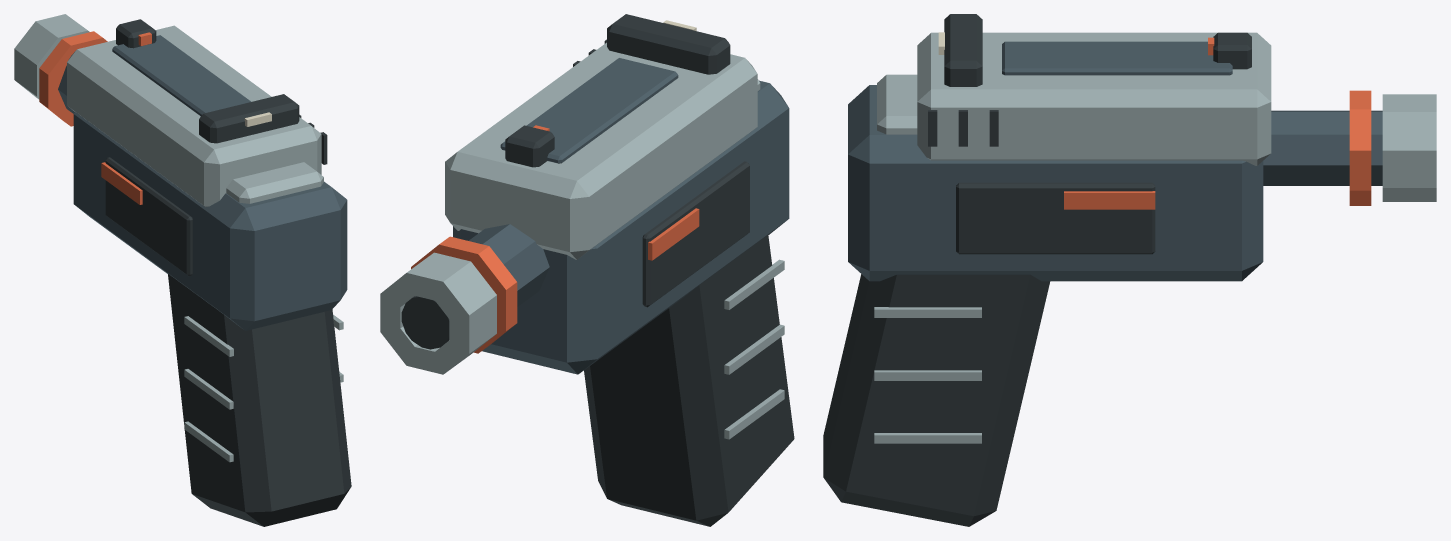
Rendered from pistol.glb.
3 views of the same model, side by side, from view 1: azimuth 30°, elevation 25°; view 2: azimuth 150°, elevation 25°; view 3: azimuth 270°, elevation 25° (orthographic). The views are drawn at different scales.
Visible parts, largest first — view 1: pistol_grip, pistol_receiver, pistol_slide, pistol_side_panel, pistol_slide_insert, pistol_rear_sight, pistol_muzzle, pistol_upper_spine, pistol_muzzle_collar, pistol_front_sight, pistol_stripe, pistol_grip_inlay_L.002 (+2 smaller); view 2: pistol_grip, pistol_slide, pistol_receiver, pistol_muzzle, pistol_side_panel, pistol_slide_insert, pistol_rear_sight, pistol_muzzle_collar, pistol_barrel, pistol_muzzle_bore, pistol_front_sight, pistol_stripe (+3 smaller); view 3: pistol_grip, pistol_receiver, pistol_slide, pistol_side_panel.001, pistol_slide_insert, pistol_barrel, pistol_muzzle, pistol_rear_sight, pistol_muzzle_collar, pistol_upper_spine, pistol_stripe.001, pistol_front_sight (+3 smaller).
Part boxes in pixels (x1,y1,x2,y2): pistol_grip: (168,274,351,526); pistol_receiver: (73,112,347,330); pistol_slide: (67,25,321,206); pistol_side_panel: (105,157,192,275); pistol_slide_insert: (112,35,251,115); pistol_rear_sight: (199,94,299,143); pistol_muzzle: (14,14,89,99); pistol_upper_spine: (226,162,323,203); pistol_muzzle_collar: (39,31,107,126); pistol_front_sight: (116,19,156,48); pistol_stripe: (101,162,142,204); pistol_grip_inlay_L.002: (184,316,233,356); pistol_grip: (584,235,794,526); pistol_slide: (445,42,757,259); pistol_receiver: (453,80,789,374); pistol_muzzle: (380,252,496,374); pistol_side_panel: (642,161,749,307); pistol_slide_insert: (500,58,678,163); pistol_rear_sight: (607,14,730,74); pistol_muzzle_collar: (411,236,517,353); pistol_barrel: (468,224,549,306); pistol_muzzle_bore: (401,296,449,349); pistol_front_sight: (505,125,554,167); pistol_stripe: (648,208,699,260); pistol_grip: (823,274,1050,526); pistol_receiver: (848,85,1263,281); pistol_slide: (917,32,1271,165); pistol_side_panel.001: (956,182,1155,254); pistol_slide_insert: (1002,41,1232,75); pistol_barrel: (1263,110,1382,185); pistol_muzzle: (1382,94,1436,201); pistol_rear_sight: (944,14,982,86); pistol_muzzle_collar: (1349,90,1371,205); pistol_upper_spine: (877,74,917,134); pistol_stripe.001: (1064,191,1155,209); pistol_front_sight: (1213,32,1251,69).
Size of the model in its own units: 0.12 by 0.3359 by 0.3985.
